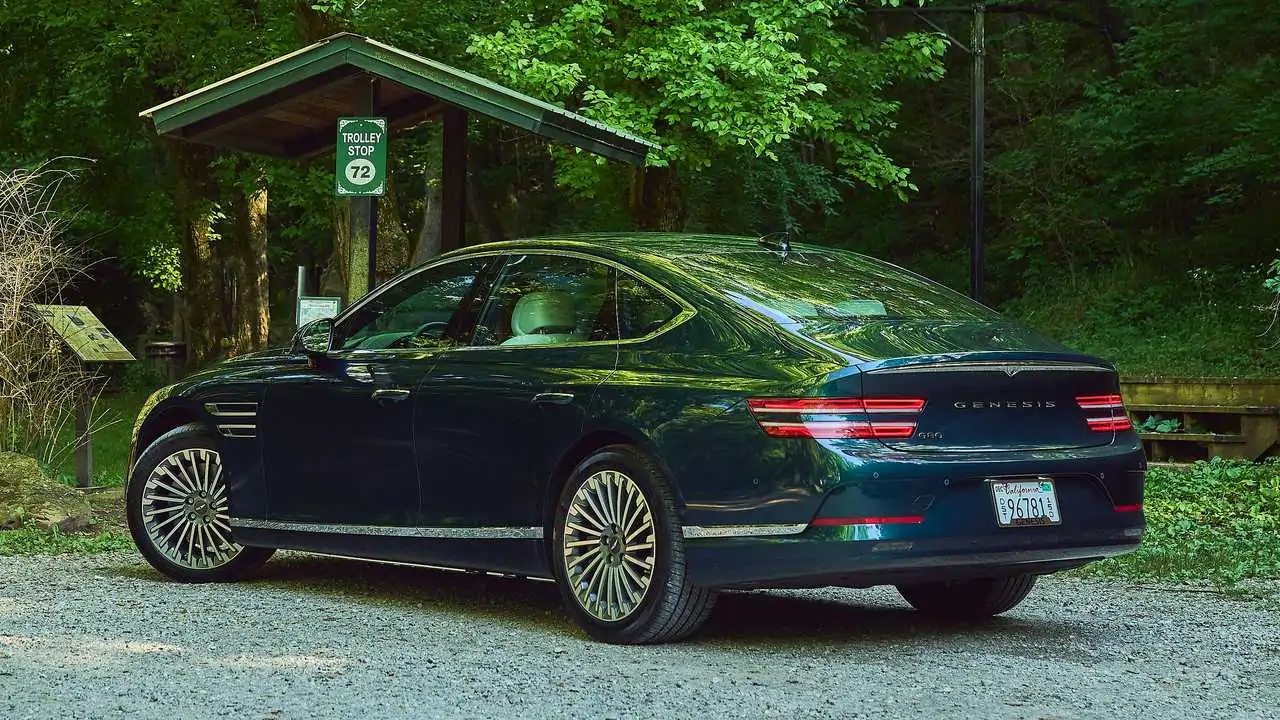car: (119, 227, 1151, 650)
